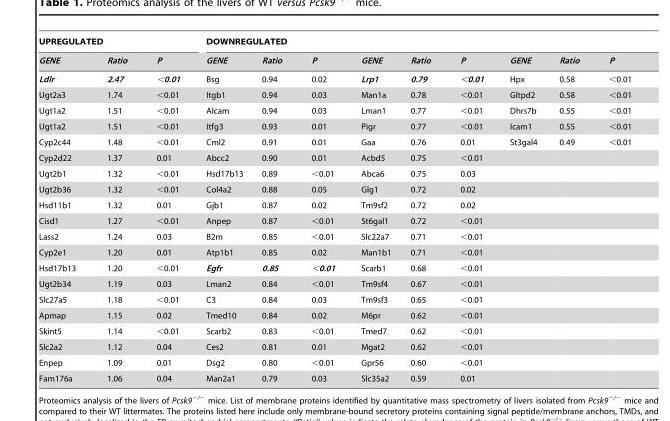table: (37, 36, 630, 382)
table column: (192, 36, 251, 382), (37, 36, 90, 382), (347, 36, 399, 382), (90, 36, 141, 382), (141, 36, 192, 382), (296, 36, 347, 382), (445, 36, 496, 382), (496, 36, 547, 382), (547, 36, 594, 382), (399, 36, 445, 382), (251, 36, 296, 382), (594, 36, 630, 382)
table column header: (37, 36, 630, 69)
table row: (37, 50, 630, 69), (37, 69, 630, 86), (37, 86, 630, 102), (37, 102, 630, 118), (37, 118, 630, 134), (37, 149, 630, 165), (37, 165, 630, 181), (37, 181, 630, 197), (37, 212, 630, 228), (37, 228, 630, 244), (37, 244, 630, 260), (37, 275, 630, 291), (37, 291, 630, 307), (37, 322, 630, 338), (37, 338, 630, 354), (37, 354, 630, 370), (37, 134, 630, 149), (37, 197, 630, 212), (37, 260, 630, 275), (37, 307, 630, 322), (37, 36, 630, 50), (37, 370, 630, 382)
table spanning cell: (192, 36, 630, 50), (37, 36, 192, 50)
